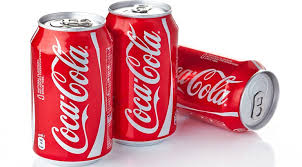can: (30, 14, 111, 166), (113, 2, 178, 148), (184, 52, 285, 137)
